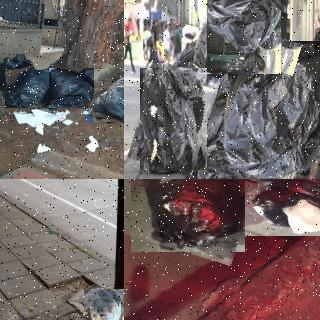Garbage: (218, 35, 320, 179), (126, 179, 249, 259), (134, 64, 214, 174), (207, 0, 281, 74), (197, 140, 312, 179), (245, 179, 320, 236), (3, 66, 64, 112), (90, 65, 124, 125), (49, 68, 94, 108), (81, 286, 124, 320), (0, 52, 36, 91)
